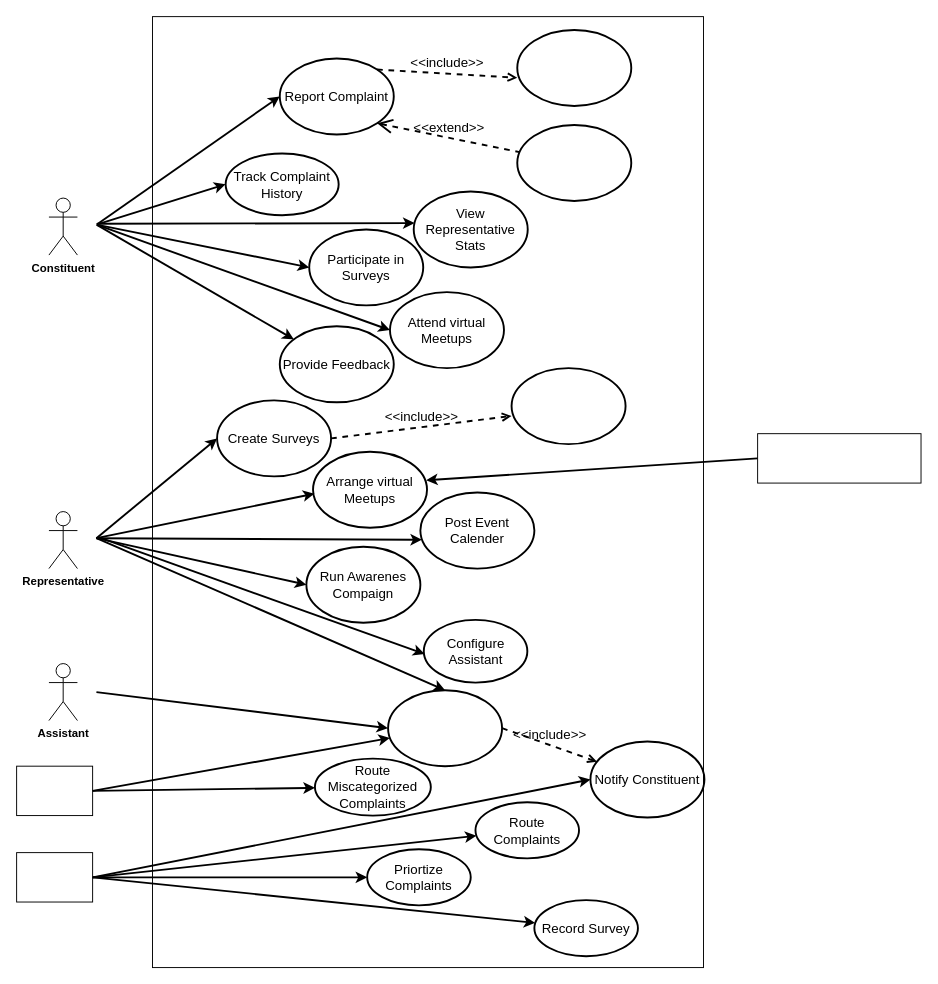
The diagram is 938 pixels wide and 984 high, and some of its shapes have lost their labels. Each missing label, with the centre of its shape:
"<<actor>> Departrment" belongs at pixel 54 790.
"<<actor>> System" belongs at pixel 54 877.
"<<actor>> Video Conferencing Service" belongs at pixel 839 458.
"Report Anonymously" belongs at pixel 574 162.
"Track Complaint Status" belongs at pixel 574 67.
"Update Complaint Status" belongs at pixel 445 728.
"View Survey Result" belongs at pixel 568 406.
